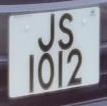0: (36, 51, 57, 94)
1: (25, 52, 38, 95), (55, 49, 67, 92)
2: (63, 47, 86, 90)
J: (34, 12, 58, 55)
S: (57, 11, 79, 53)
